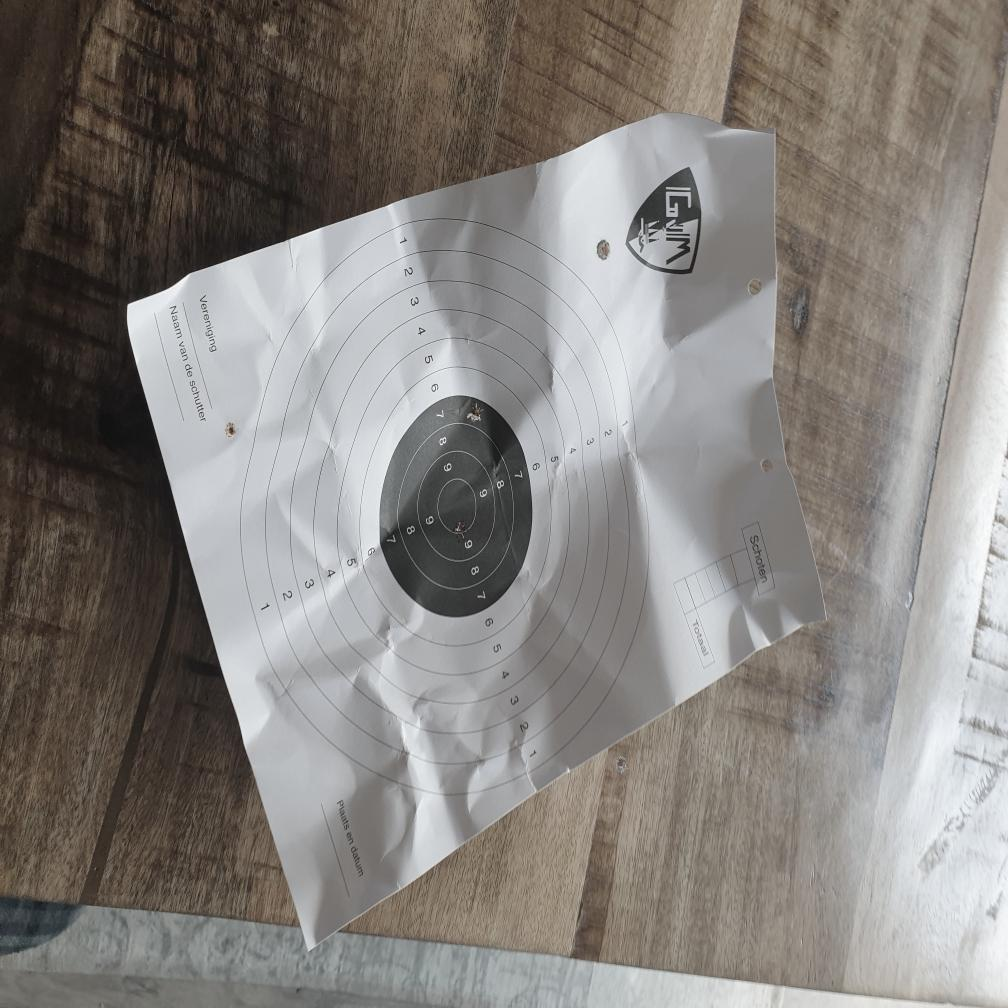0: (596, 240, 611, 260), (225, 422, 236, 439)
10: (452, 521, 469, 542)
7: (467, 402, 484, 422)
Target: (237, 214, 650, 800)
black_contour: (380, 394, 532, 618)
